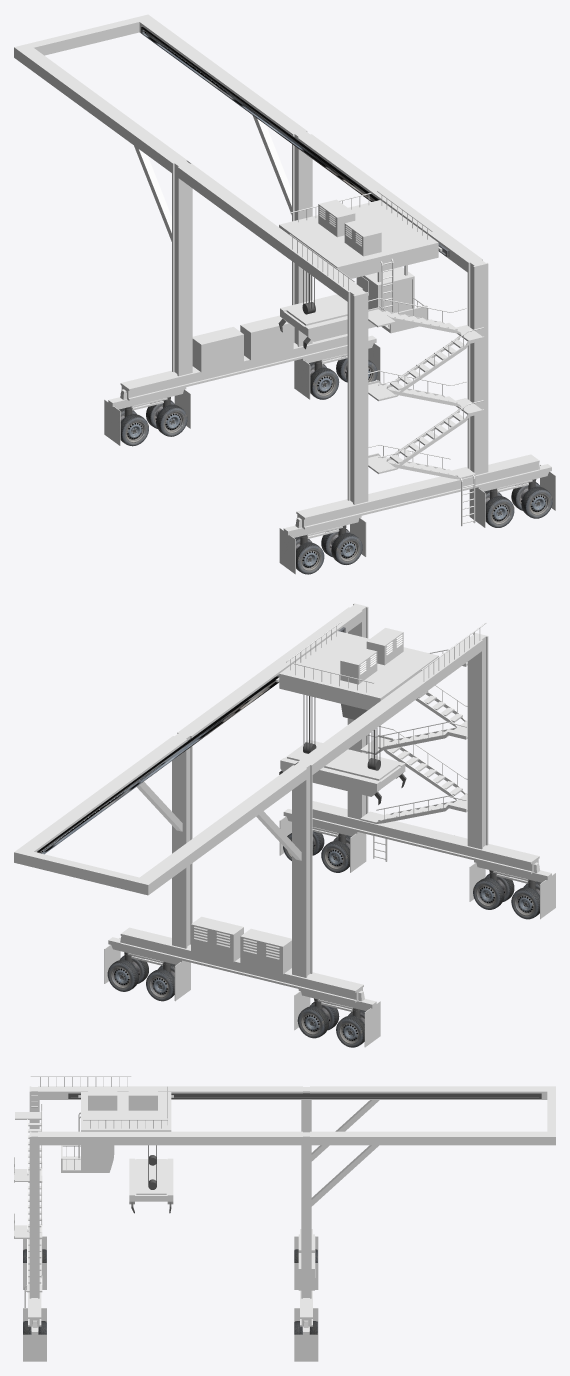
File: crane_harbour.glb
The picture shows the model from 3 angles, top to bottom: view 1: azimuth 30°, elevation 25°; view 2: azimuth 150°, elevation 25°; view 3: azimuth 270°, elevation 25°; orthographic projection. The views are drawn at different scales.
Visible parts, largest first — view 1: Harbour Crane_0; view 2: Harbour Crane_0; view 3: Harbour Crane_0.
Boxes of the visible parts, x1,y1,x2,y2 form: Harbour Crane_0: (14, 14, 555, 574); Harbour Crane_0: (14, 603, 555, 1047); Harbour Crane_0: (14, 1076, 555, 1361).
Size of the model in its own units: 8.97 by 9.23 by 20.62.
Materials: 6 (1 with a texture image).
